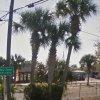Palm tree: (19, 7, 83, 86)
